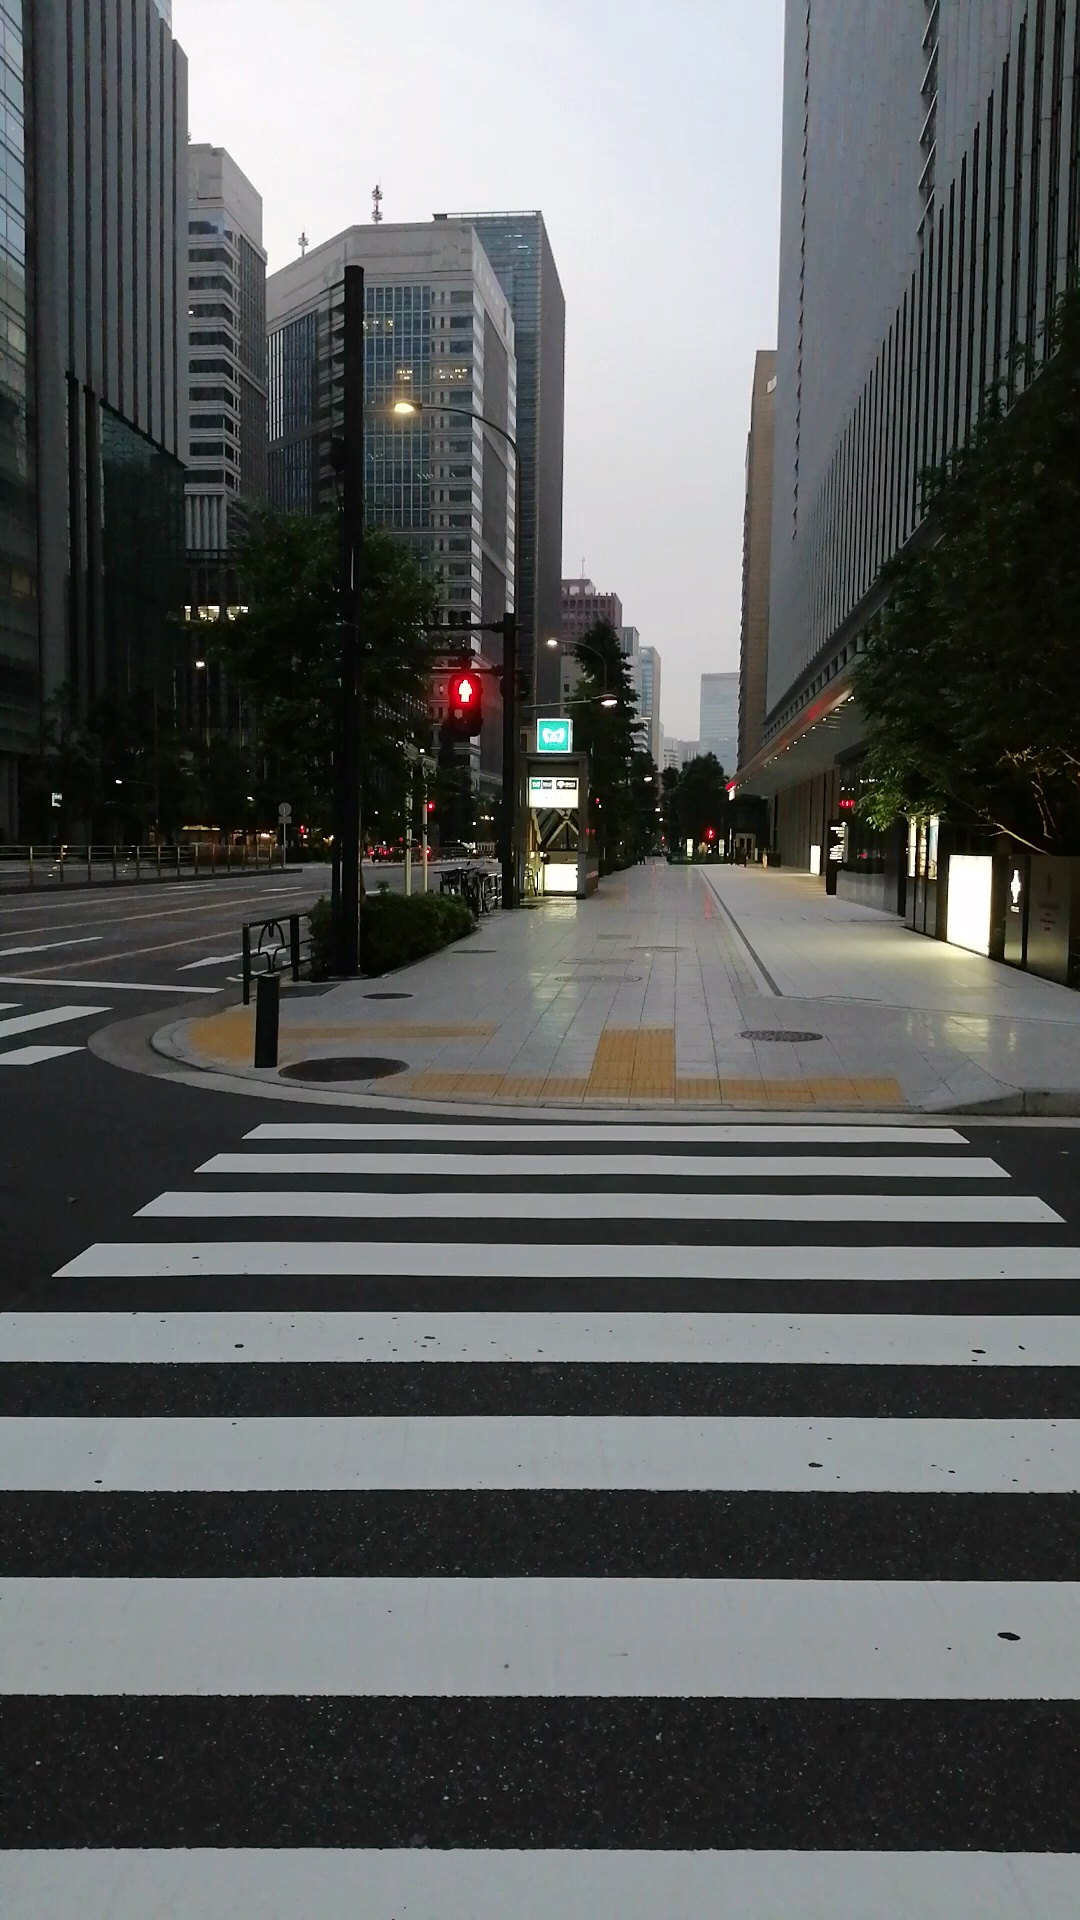red: (444, 671, 484, 738)
